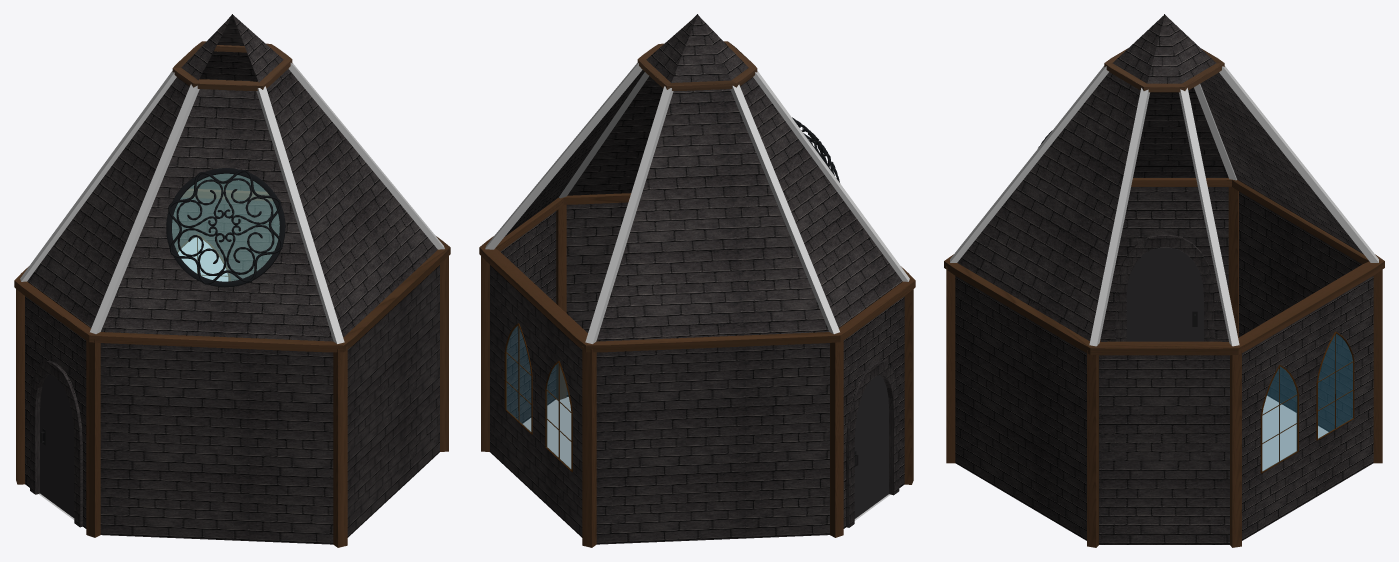
The model's file is Bulding_Curiosity.fbx.
3 views of the same model, side by side, from view 1: azimuth 30°, elevation 25°; view 2: azimuth 150°, elevation 25°; view 3: azimuth 270°, elevation 25° (orthographic).
Visible parts, largest first — view 1: ściana2, Dach_z_oknem, Dach2, ściana3, Dach1, Belki_dachowe, Okno_dachowe_szyba, Belka_dachowa_większa, Okno_dachowe, Ściana1, ściana5_z_oknami, Drzwi (+10 smaller); view 2: ściana6, Dach5, ściana5_z_oknami, Dach1, Belki_dachowe, Belka_dachowa_większa, ściana3, ściana4, Ściana1, Dach2, Drzwi, Szyby_okna (+14 smaller); view 3: ściana4, ściana3, Dach2, ściana5_z_oknami, ściana6, Belki_dachowe, Belka_dachowa_większa, Dach5, Ściana1, Drzwi, Dach1, Szyby_okna (+12 smaller).
Part boxes in pixels (x1,y1,x2,y2): ściana2: [100, 343, 333, 544]; Dach_z_oknem: [101, 89, 333, 341]; Dach2: [266, 69, 437, 337]; ściana3: [347, 265, 439, 537]; Dach1: [27, 77, 189, 327]; Belki_dachowe: [20, 63, 444, 343]; Okno_dachowe_szyba: [172, 173, 279, 281]; Belka_dachowa_większa: [14, 188, 450, 352]; Okno_dachowe: [166, 168, 285, 287]; Ściana1: [25, 296, 86, 528]; ściana5_z_oknami: [172, 197, 279, 281]; Drzwi: [40, 374, 74, 517]; ściana6: [596, 343, 829, 544]; Dach5: [596, 89, 828, 341]; ściana5_z_oknami: [490, 265, 582, 537]; Dach1: [740, 77, 902, 327]; Belki_dachowe: [485, 63, 909, 343]; Belka_dachowa_większa: [479, 193, 915, 352]; ściana3: [566, 202, 628, 396]; ściana4: [500, 211, 556, 423]; Ściana1: [843, 296, 904, 528]; Dach2: [567, 76, 663, 195]; Drzwi: [854, 375, 888, 518]; Szyby_okna: [506, 326, 570, 468]; ściana4: [1099, 355, 1229, 544]; ściana3: [955, 276, 1086, 540]; Dach2: [957, 72, 1140, 340]; ściana5_z_oknami: [1242, 276, 1373, 540]; ściana6: [1239, 191, 1361, 431]; Belki_dachowe: [950, 66, 1378, 346]; Belka_dachowa_większa: [944, 178, 1384, 355]; Dach5: [1200, 72, 1363, 254]; Ściana1: [1100, 187, 1228, 341]; Drzwi: [1126, 247, 1203, 341]; Dach1: [1133, 87, 1228, 177]; Szyby_okna: [1262, 334, 1352, 471].
Bounding box in the file's own units: 7.44 × 8.87 × 7.93.
